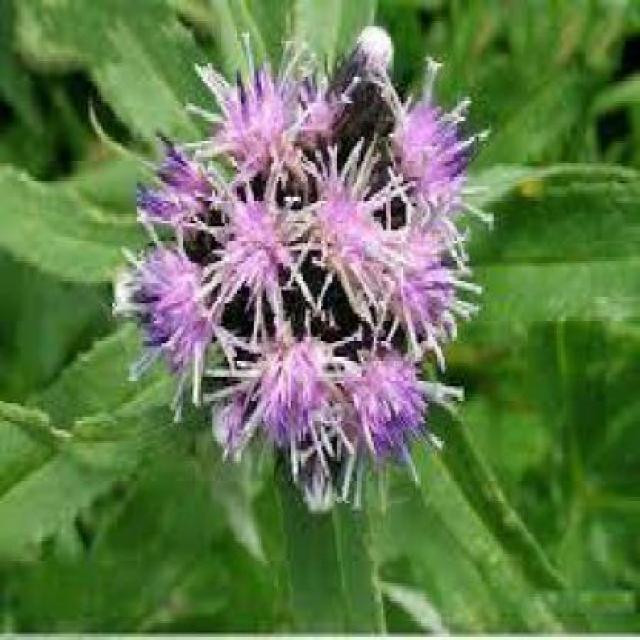flower: (112, 36, 470, 507)
